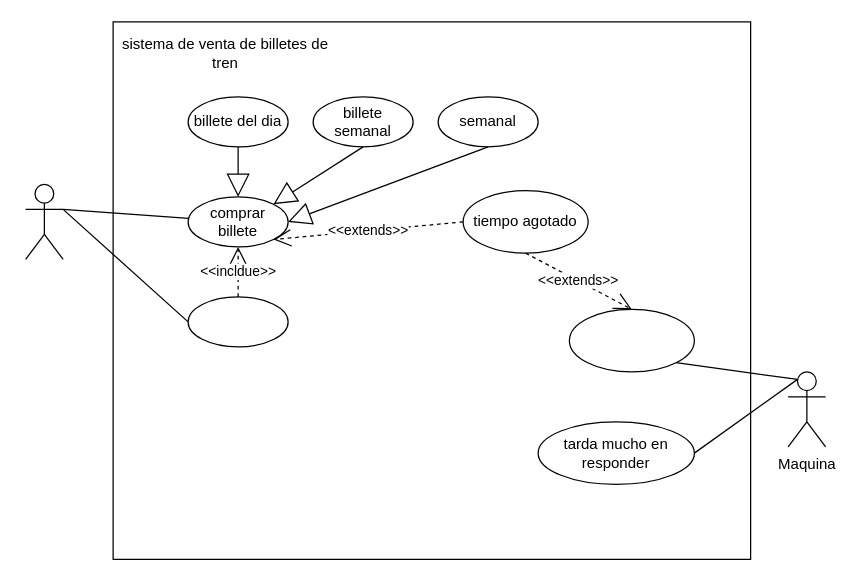
The diagram is 858 pixels wide and 581 high, and some of its shapes have lost their labels. Each missing label, with the centre of its shape:
"actualizar tarifa" belongs at point (237, 321).
"comprobar el tiempo que tarda el usuario" belongs at point (631, 340).
"Viajero" belongs at point (43, 221).
